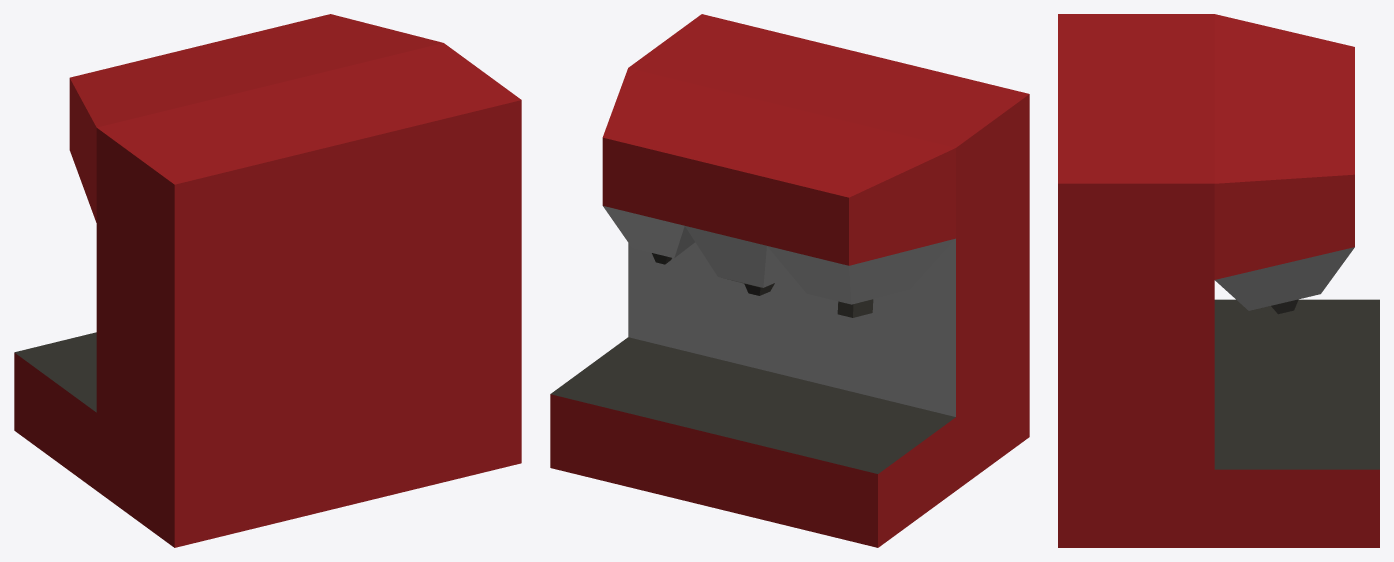
The model's file is coffee machine.fbx.
3 renders of one model, left to right at view 1: azimuth 30°, elevation 25°; view 2: azimuth 150°, elevation 25°; view 3: azimuth 270°, elevation 25°, orthographic. The views are drawn at different scales.
Parts seen in each view (by area): view 1: coffee machine; view 2: coffee machine; view 3: coffee machine.
Boxes of the visible parts, x1,y1,x2,y2 form: coffee machine: [14, 14, 521, 547]; coffee machine: [550, 14, 1029, 547]; coffee machine: [1058, 14, 1379, 547].
Size of the model in its own units: 2 by 2 by 1.6.
